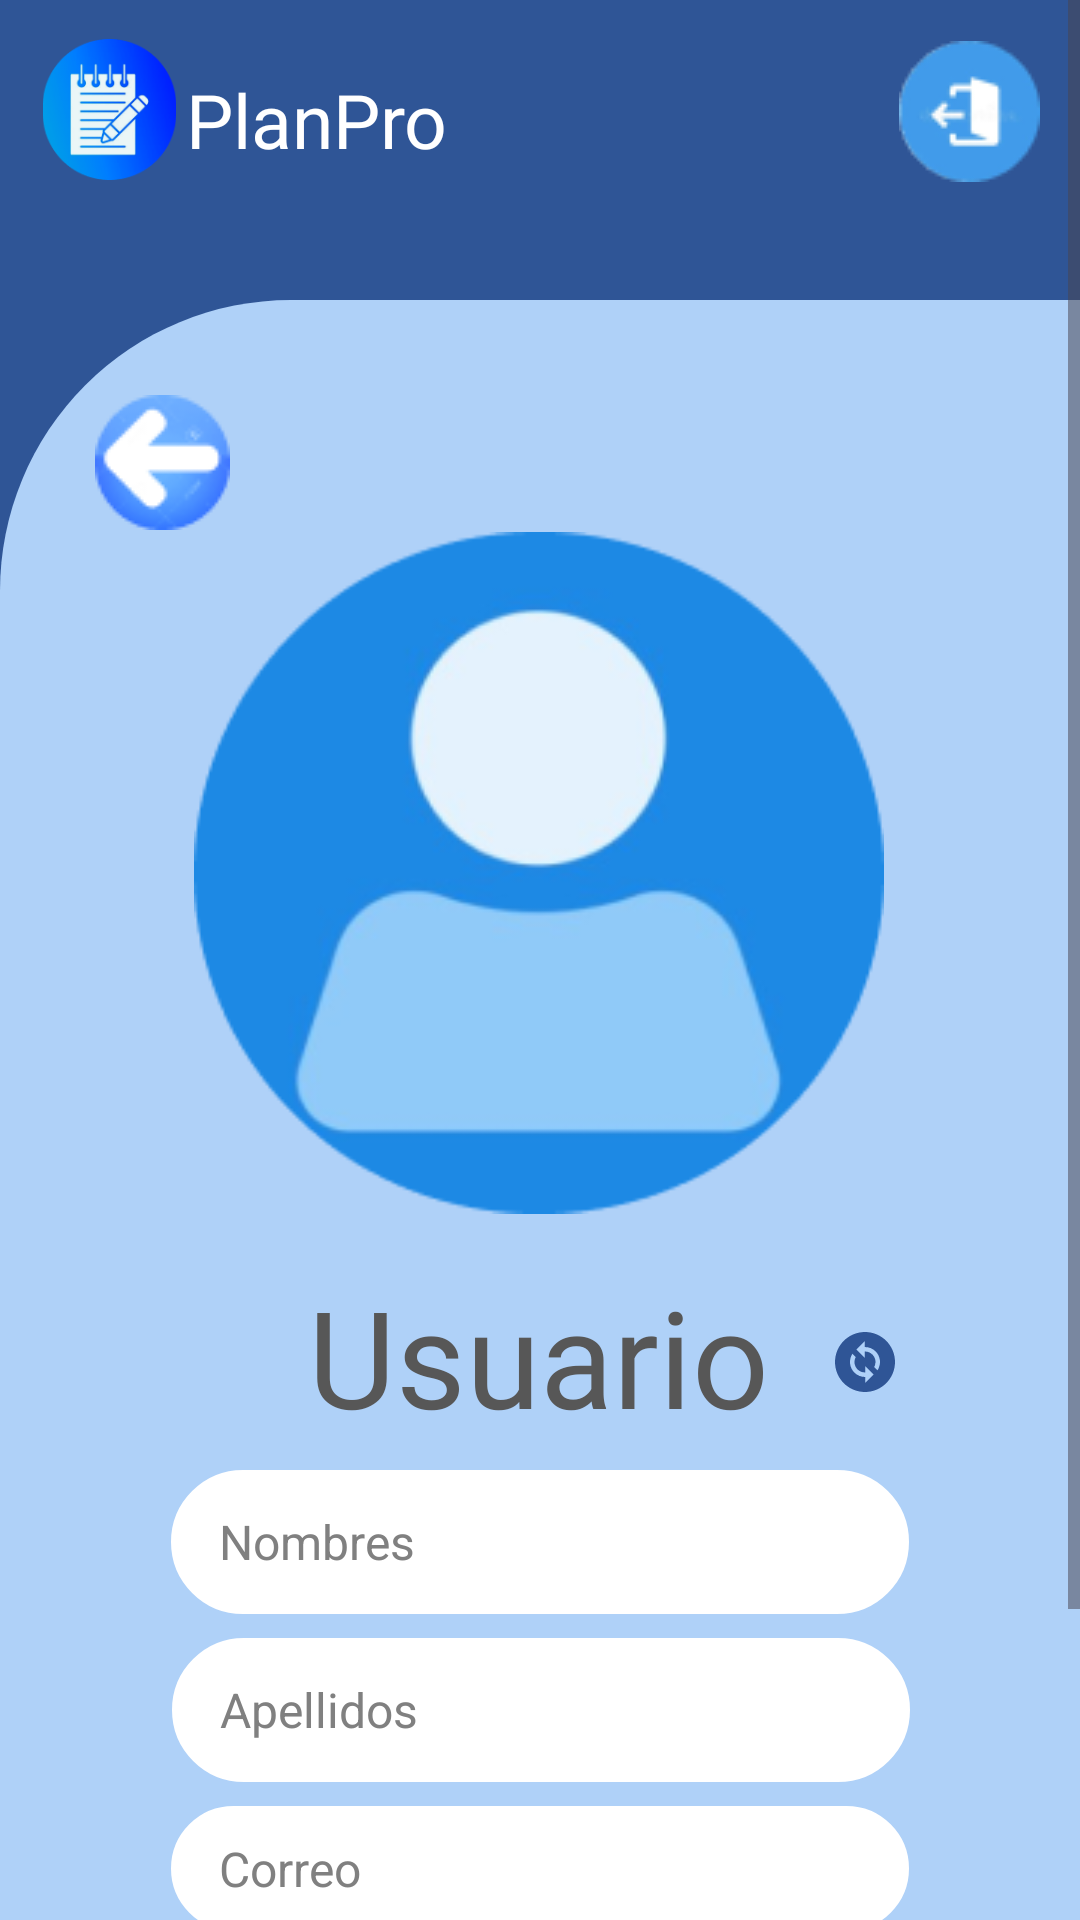

Icons on this 1080x1920 Android screen, each with the point to tap as point (x, y):
Atras: point (162, 462)
Salir: point (969, 111)
